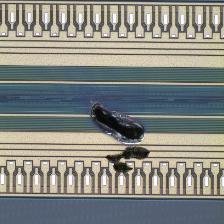PARTICLE: (83, 99, 155, 179)
